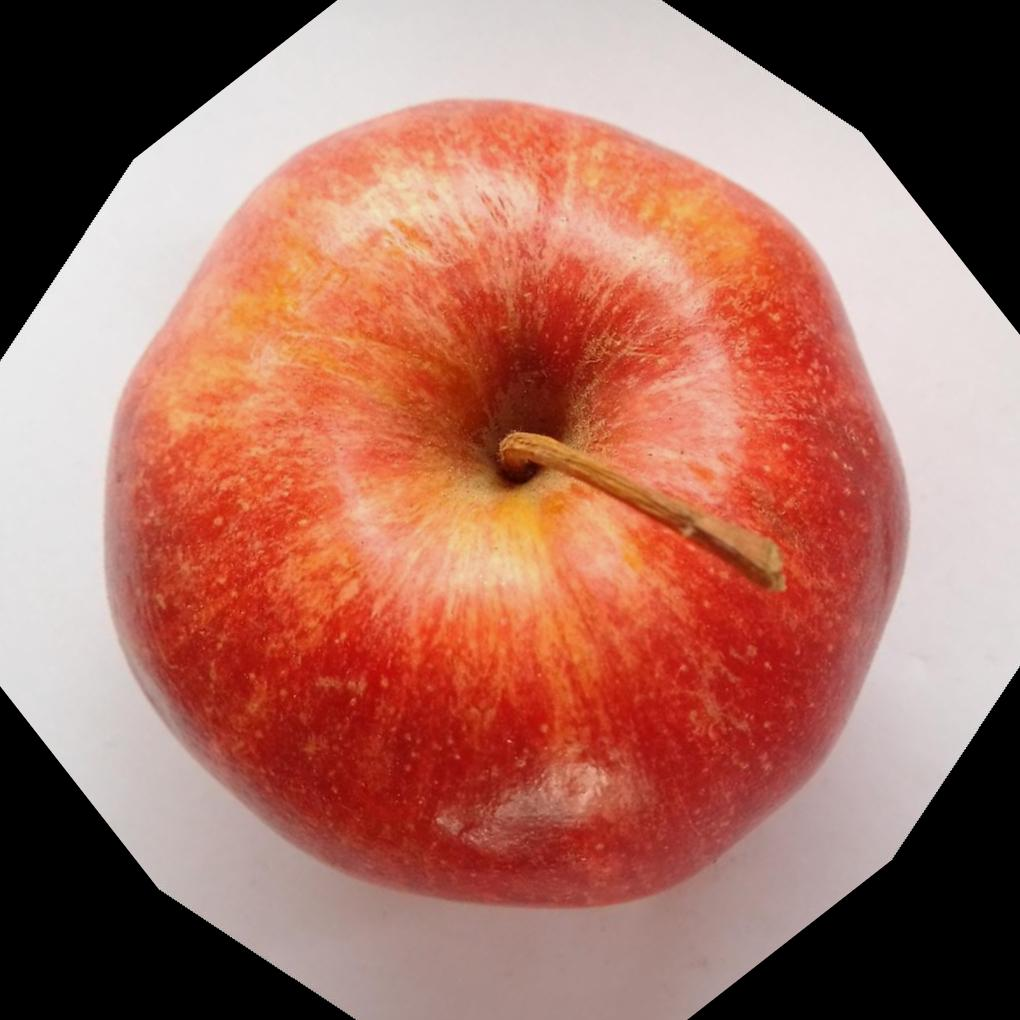FreshGuava: (102, 93, 911, 908)
